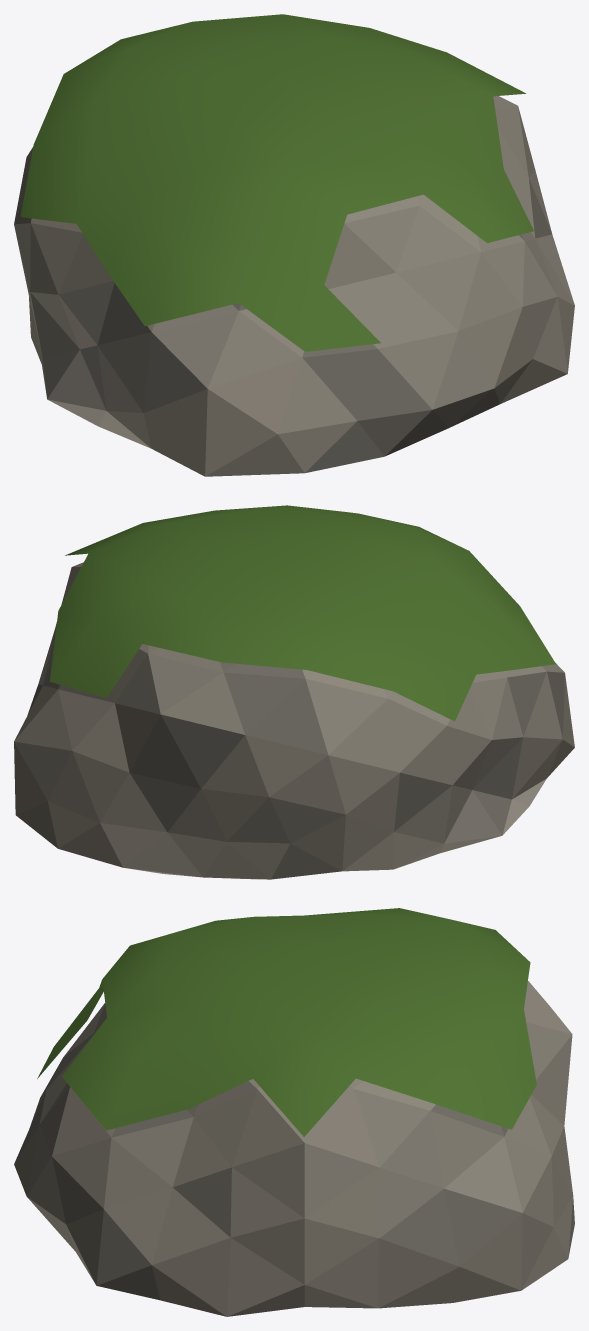
Rendered from BoulderLarge.glb.
3 views of the same model, one above another, from view 1: azimuth 30°, elevation 25°; view 2: azimuth 150°, elevation 25°; view 3: azimuth 270°, elevation 25° (orthographic). The views are drawn at different scales.
Visible parts, largest first — view 1: BoulderLarge.moss, BoulderLarge.stone, BoulderLarge.stoneDark; view 2: BoulderLarge.stone, BoulderLarge.moss, BoulderLarge.stoneDark; view 3: BoulderLarge.stone, BoulderLarge.moss, BoulderLarge.stoneDark.
Part boxes in pixels (x1=…): BoulderLarge.moss: x1=20, y1=14, x2=533, y2=351; BoulderLarge.stone: x1=14, y1=96, x2=574, y2=476; BoulderLarge.stoneDark: x1=15, y1=179, x2=551, y2=472; BoulderLarge.stone: x1=14, y1=562, x2=574, y2=879; BoulderLarge.moss: x1=50, y1=505, x2=555, y2=721; BoulderLarge.stoneDark: x1=27, y1=662, x2=564, y2=879; BoulderLarge.stone: x1=14, y1=981, x2=574, y2=1316; BoulderLarge.moss: x1=37, y1=908, x2=536, y2=1136; BoulderLarge.stoneDark: x1=47, y1=1034, x2=522, y2=1266.
Bounding box in the file's own units: 8.8 × 4.6 × 9.
